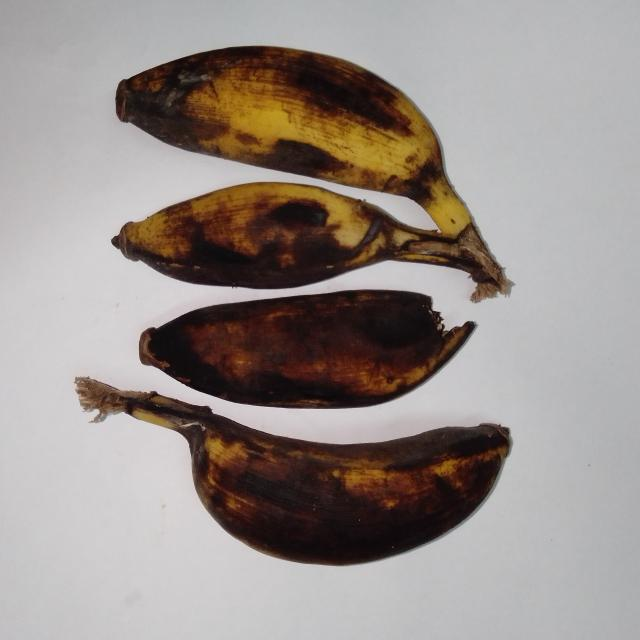banana: (117, 47, 508, 300), (76, 378, 510, 564), (140, 290, 474, 407), (112, 183, 484, 288)
